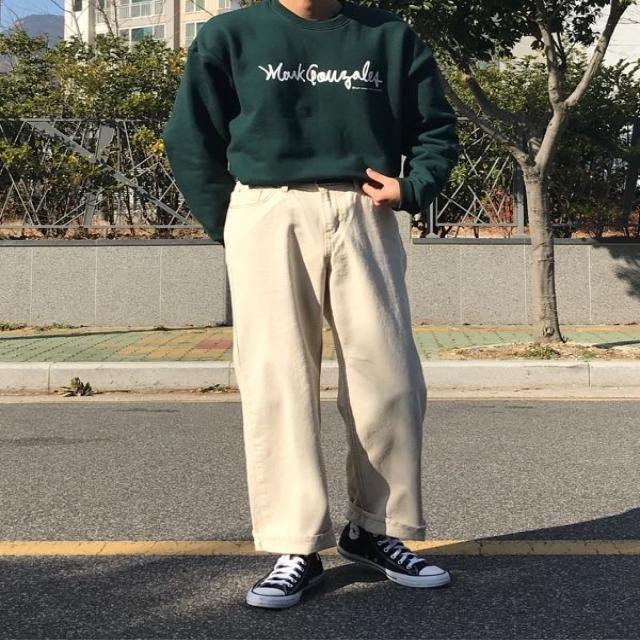cottonpants: (229, 186, 429, 558)
mtm: (166, 3, 460, 247)
